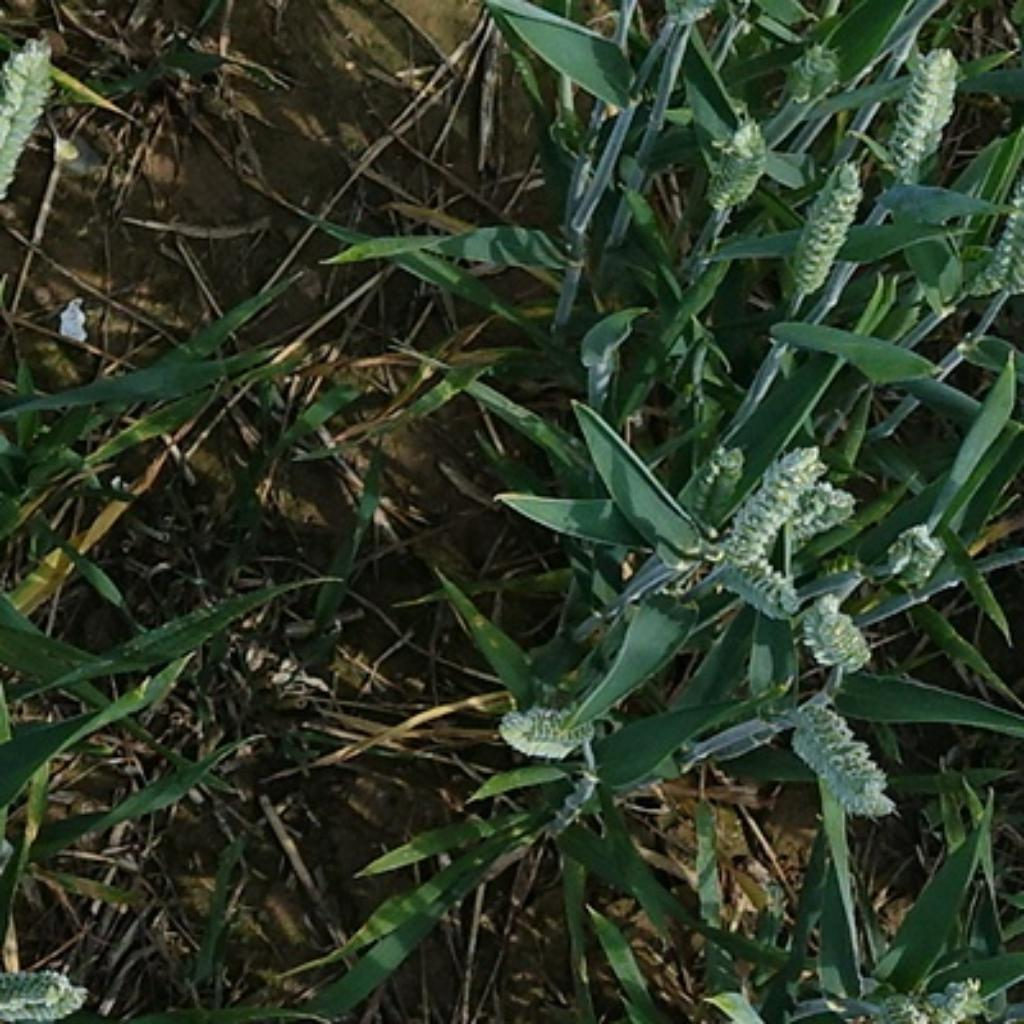0-0: (773, 683, 901, 819), (701, 437, 819, 581), (778, 156, 867, 296), (883, 35, 962, 181), (673, 430, 762, 555), (0, 35, 55, 217), (711, 524, 801, 622), (698, 107, 773, 215), (757, 488, 862, 560), (788, 591, 878, 673), (486, 693, 601, 757), (875, 509, 957, 593), (525, 760, 604, 845), (860, 973, 988, 1024), (984, 146, 1024, 302), (778, 35, 850, 104), (0, 982, 85, 1024), (0, 968, 74, 1007)
